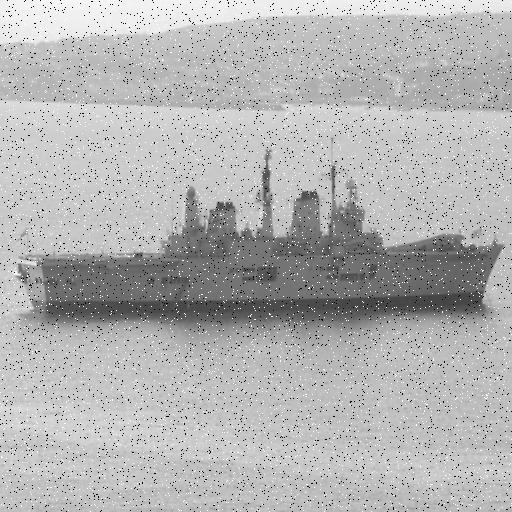Portanaves: (10, 133, 509, 314)
